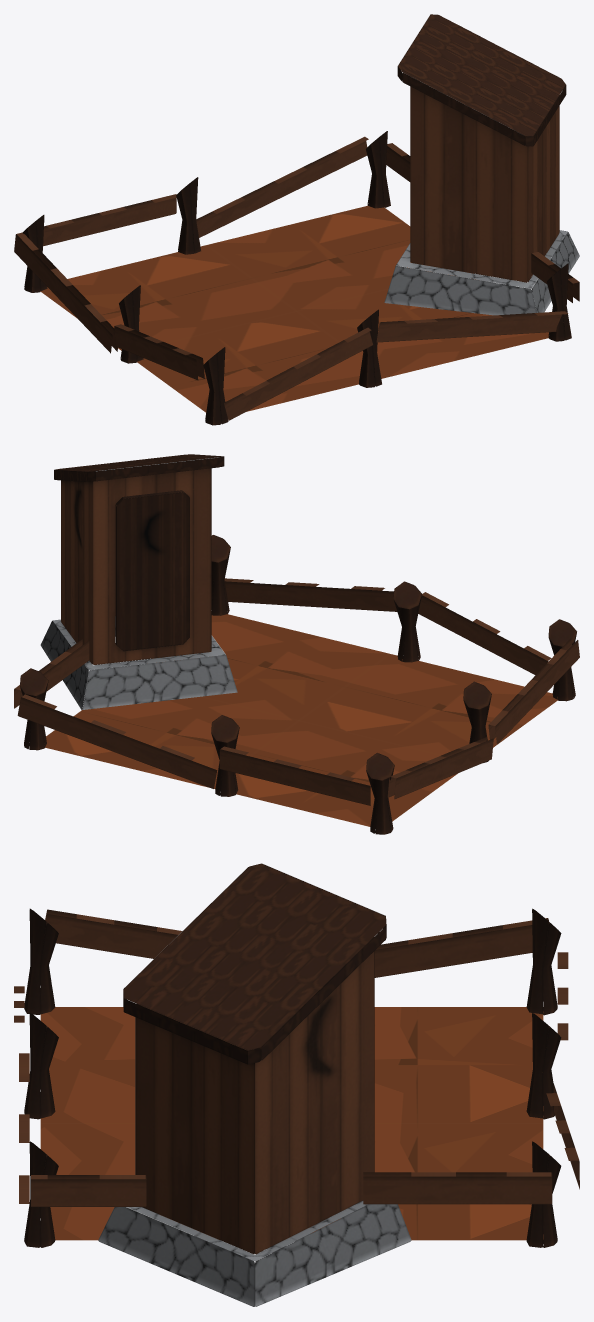
Rendered from HD_Build_Harvester_CropBarn_3x2_Mesh001.FBX.
3 views of the same model, one above another, from view 1: azimuth 30°, elevation 25°; view 2: azimuth 150°, elevation 25°; view 3: azimuth 270°, elevation 25° (orthographic). The views are drawn at different scales.
Visible parts, largest first — view 1: HD_Build_Harwester_CropGatherer_lvl003; view 2: HD_Build_Harwester_CropGatherer_lvl003; view 3: HD_Build_Harwester_CropGatherer_lvl003.
Boxes of the visible parts, <box> form: HD_Build_Harwester_CropGatherer_lvl003: <box>14,14,579,425</box>; HD_Build_Harwester_CropGatherer_lvl003: <box>14,454,579,834</box>; HD_Build_Harwester_CropGatherer_lvl003: <box>14,863,579,1306</box>.
Size of the model in its own units: 242 by 117 by 186.
Materials: 2 (2 with a texture image).
